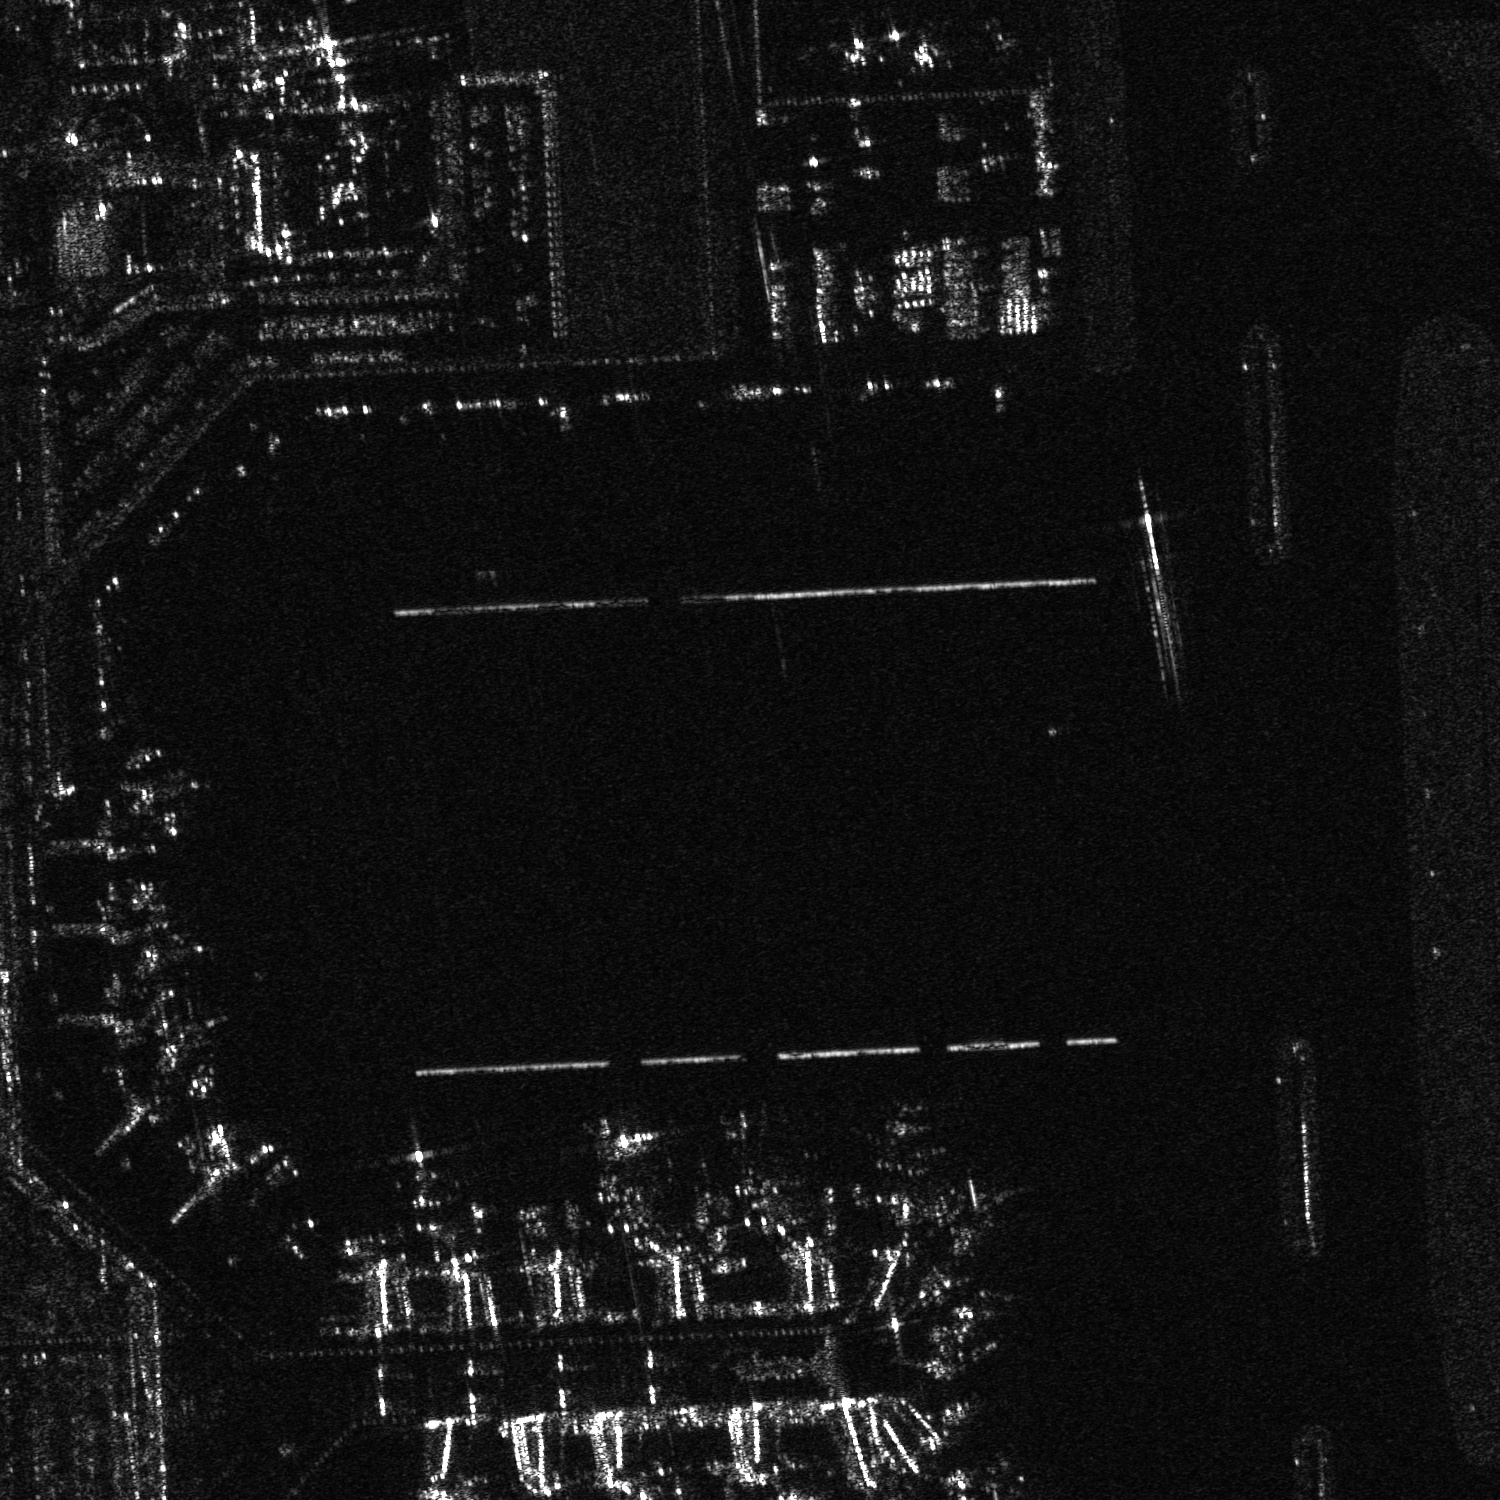A220: (91, 740, 212, 849), (107, 911, 214, 990), (386, 1136, 451, 1188)
A320/321: (867, 1114, 945, 1181), (588, 1114, 665, 1173)
